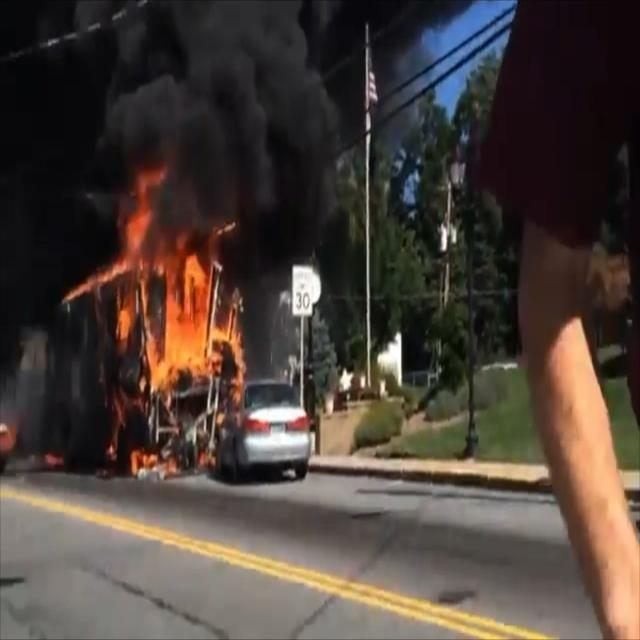fire: (104, 179, 238, 464)
